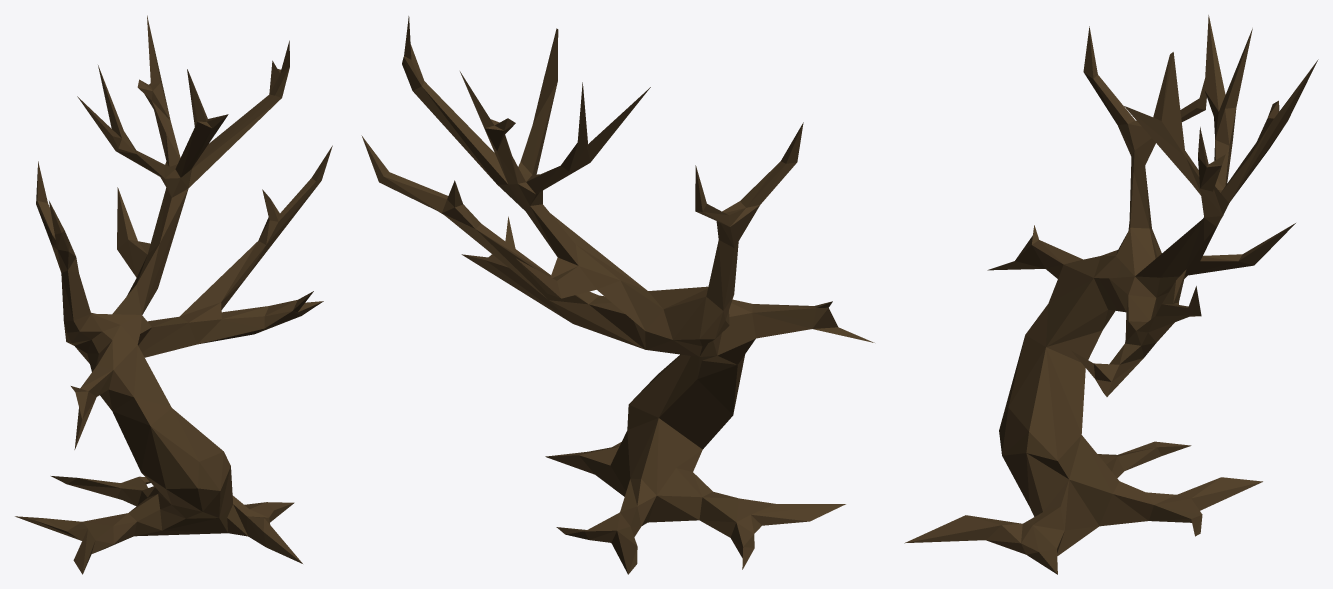
Rendered from Bare_Gnarled_A.glb.
The picture shows the model from 3 angles, left to right: view 1: azimuth 30°, elevation 25°; view 2: azimuth 150°, elevation 25°; view 3: azimuth 270°, elevation 25°; orthographic projection. The views are drawn at different scales.
Visible parts, largest first — view 1: Bare_Gnarled_A_LOD0; view 2: Bare_Gnarled_A_LOD0; view 3: Bare_Gnarled_A_LOD0.
Part boxes in pixels (box(x1,y1,x2,y2)): Bare_Gnarled_A_LOD0: box(15, 15, 332, 574); Bare_Gnarled_A_LOD0: box(361, 16, 874, 574); Bare_Gnarled_A_LOD0: box(904, 15, 1318, 574).
Size of what is drawn, in the model's own units: 4.98 by 5.87 by 4.35.
